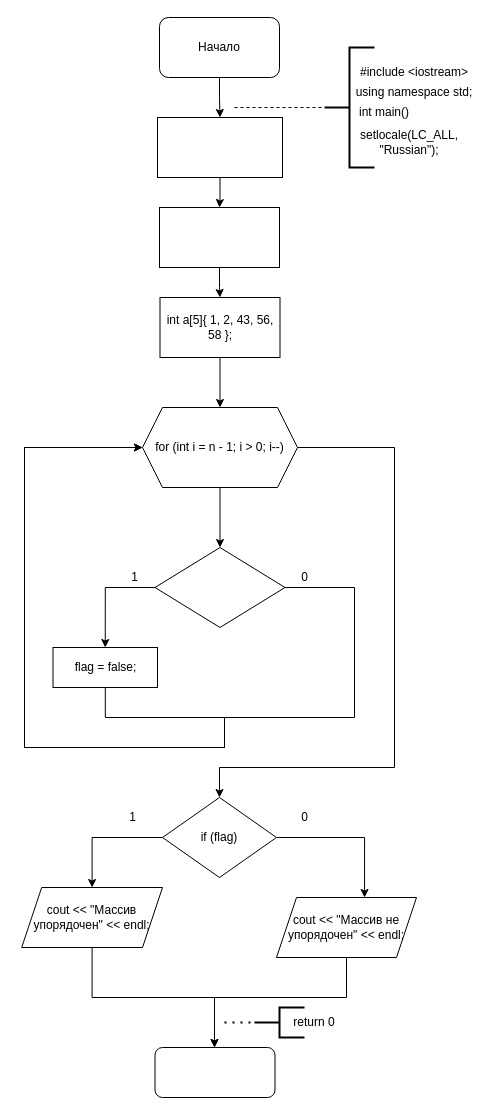
The diagram is 502 pixels wide and 1115 high, and some of its shapes have lost their labels. The centre of each missing label's shape, as x and y in pixels:
"bool flag = true;" goes at [219,237].
"if (a[i] < a[i - 1])" goes at [219,587].
"int n = 5;" goes at [219,147].
"Конец" goes at [214,1072].
